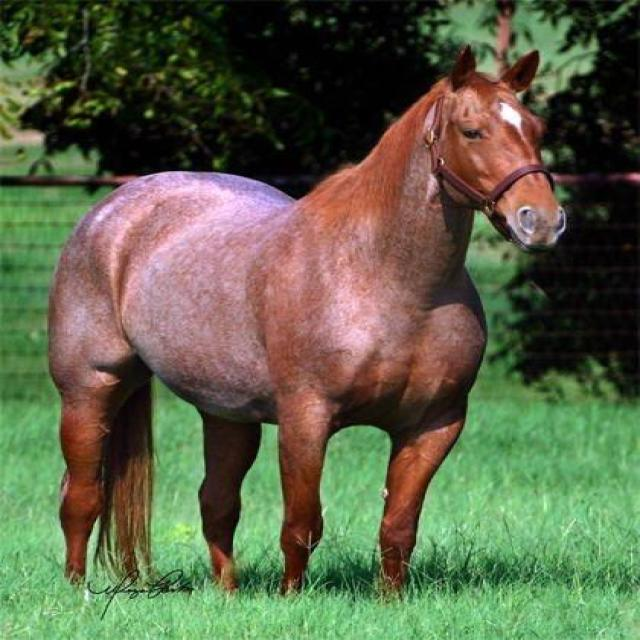horse: (46, 42, 567, 600)
